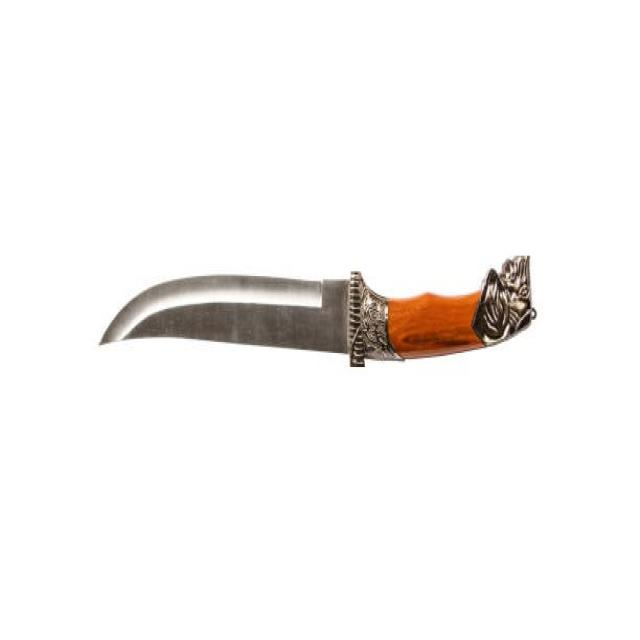knife: (83, 259, 553, 392)
